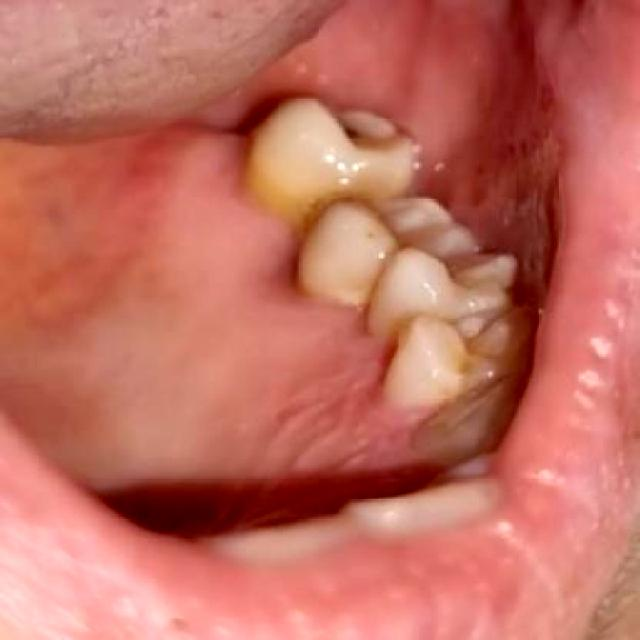Plaque: (236, 229, 360, 329)
